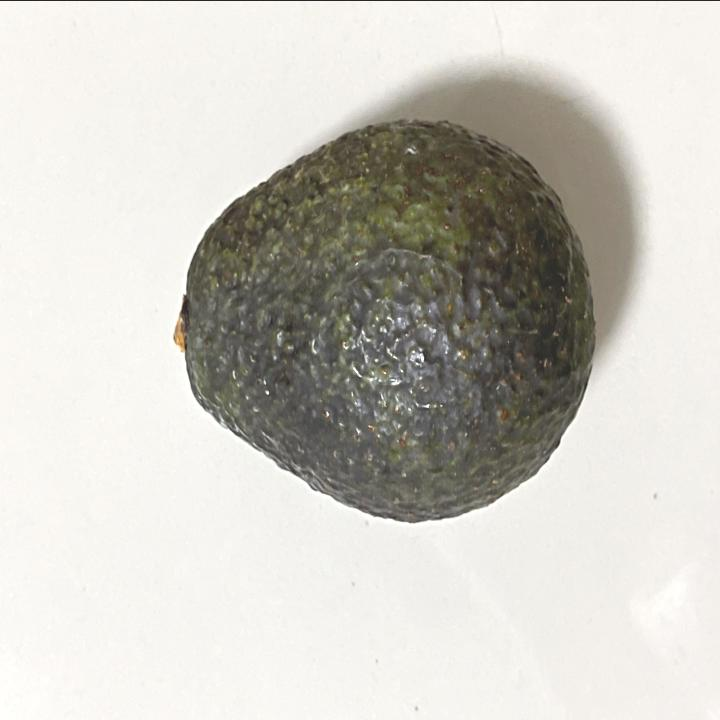Level1: (162, 110, 604, 540)
